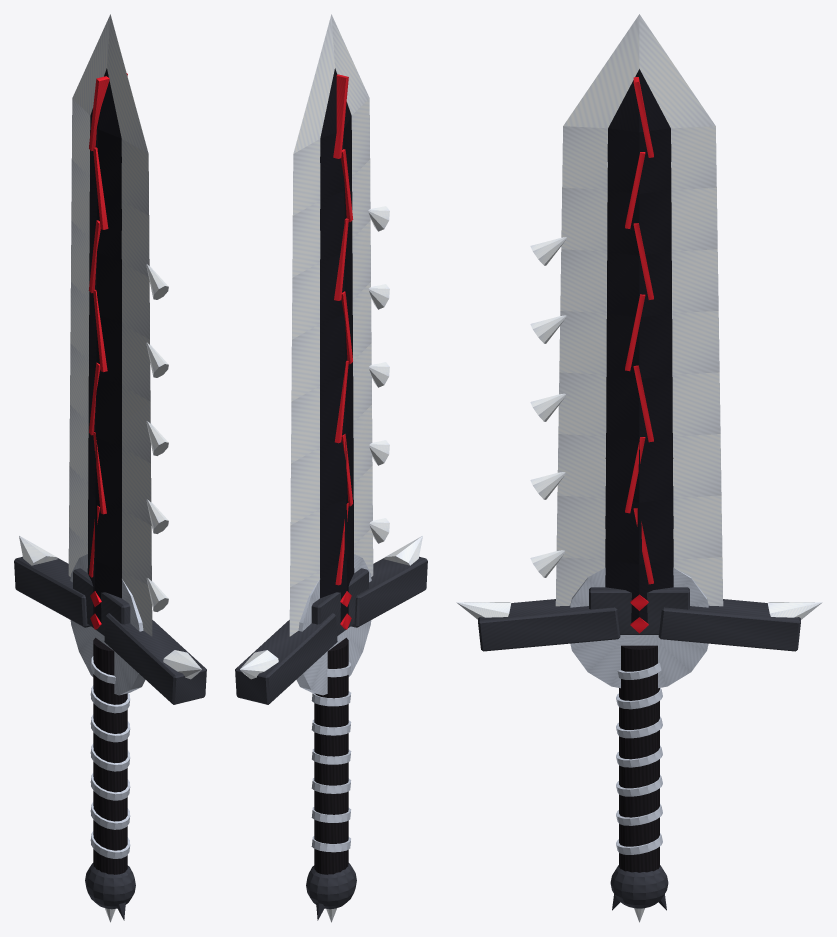
File: RoyalMourning.fbx
3 views of the same model, side by side, from view 1: azimuth 30°, elevation 25°; view 2: azimuth 150°, elevation 25°; view 3: azimuth 270°, elevation 25° (orthographic).
Parts seen in each view (by area): view 1: RoyalMourning; view 2: RoyalMourning; view 3: RoyalMourning.
Boxes of the visible parts, x1,y1,x2,y2 form: RoyalMourning: (14,14,206,922); RoyalMourning: (235,14,427,922); RoyalMourning: (456,14,822,922).
Size of the model in its own units: 44.01 by 932 by 341.
1 material, 1 textured.
